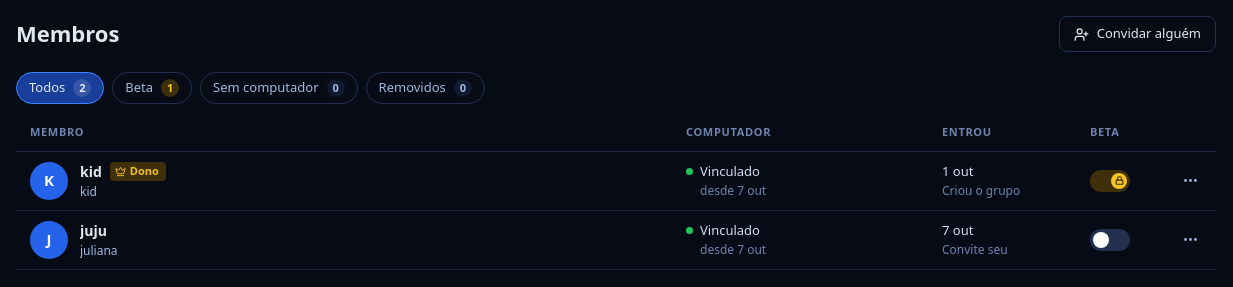
Test case: MembersSettings › liga o beta na hora e deixa o do dono travado
The image size is (1233, 287).
Expected: the switch named "O dono sempre recebe o beta" is checked, [1090, 170, 1130, 192]
Click the switch named "Beta para juju". click: (1110, 240)
box: [1090, 228, 1130, 250]
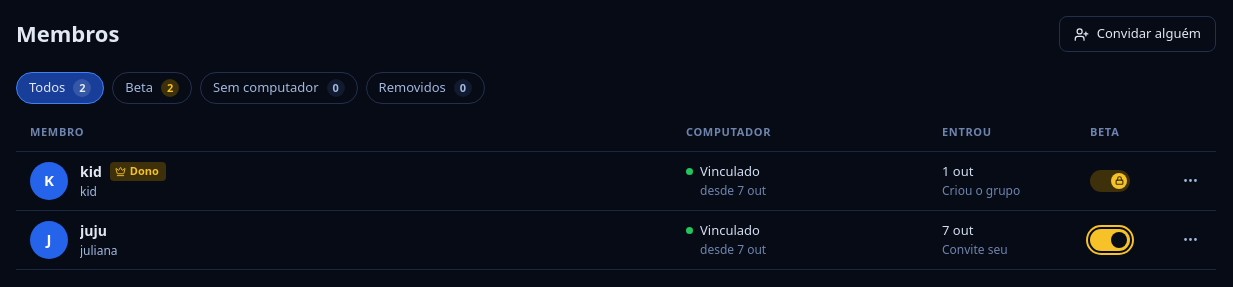
Result: the switch named "Beta para juju" is checked at [1090, 228, 1130, 250]
